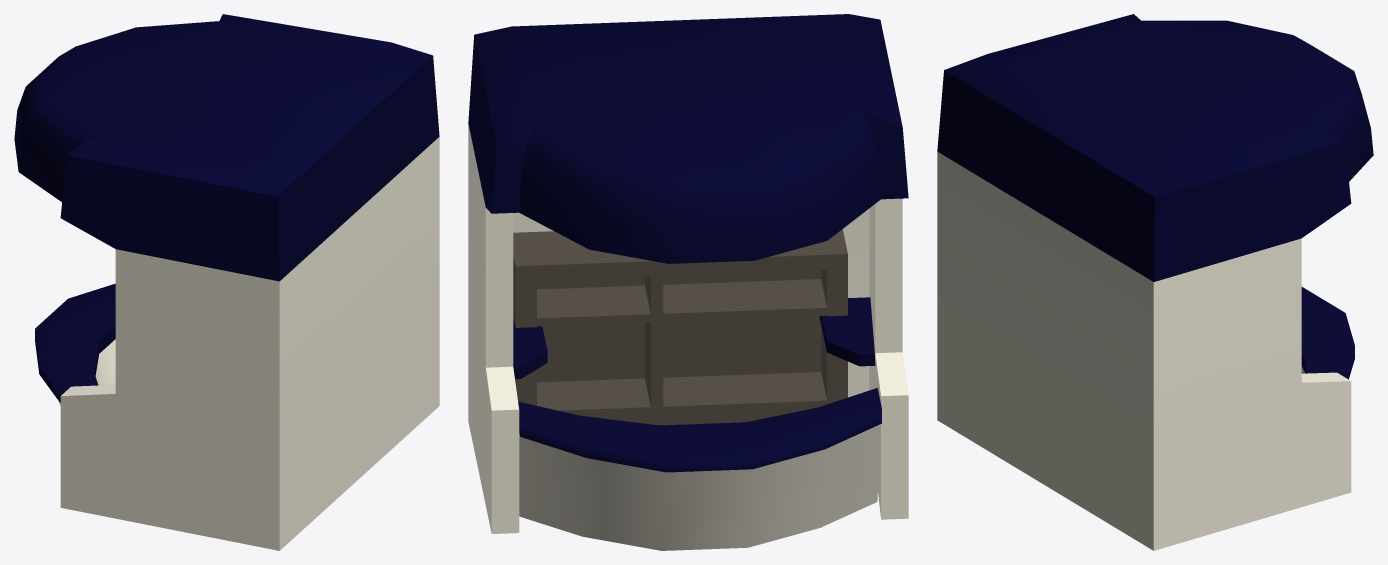
Rendered from Foodstand_08.fbx.
The picture shows the model from 3 angles, left to right: view 1: azimuth 30°, elevation 25°; view 2: azimuth 150°, elevation 25°; view 3: azimuth 270°, elevation 25°; orthographic projection. The views are drawn at different scales.
Parts seen in each view (by area): view 1: Foodstand_08; view 2: Foodstand_08; view 3: Foodstand_08.
Part boxes in pixels (box(x1,y1,x2,y2)): Foodstand_08: box(14, 14, 439, 550); Foodstand_08: box(468, 14, 908, 550); Foodstand_08: box(937, 14, 1373, 550).
Bounding box in the file's own units: 16.74 × 15.28 × 16.32.
